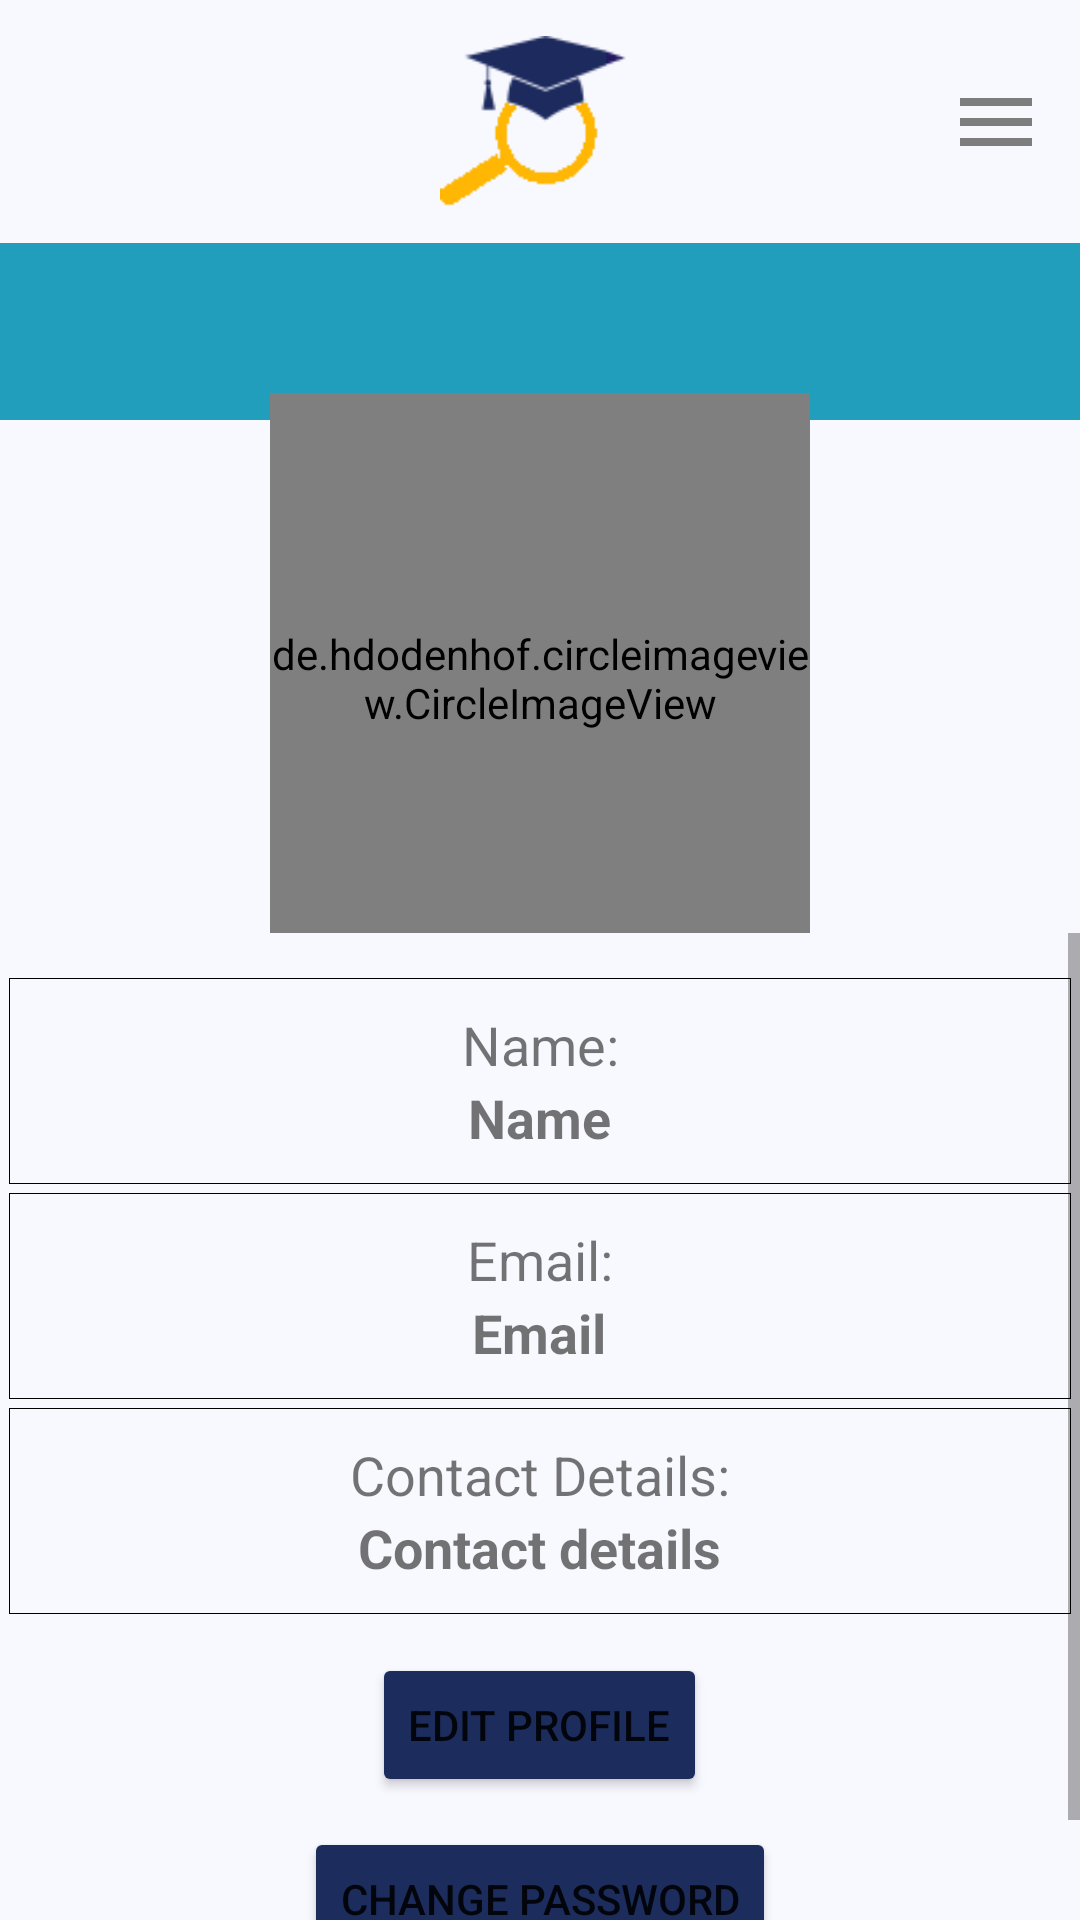

Icons on this 1080 × 1920 Android screen, each with its box as (x1, y1, x2, y2):
menu: (960, 98, 1032, 146)
tutor: (440, 36, 625, 206)
